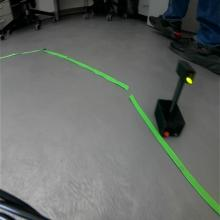green: (177, 58, 196, 85)
